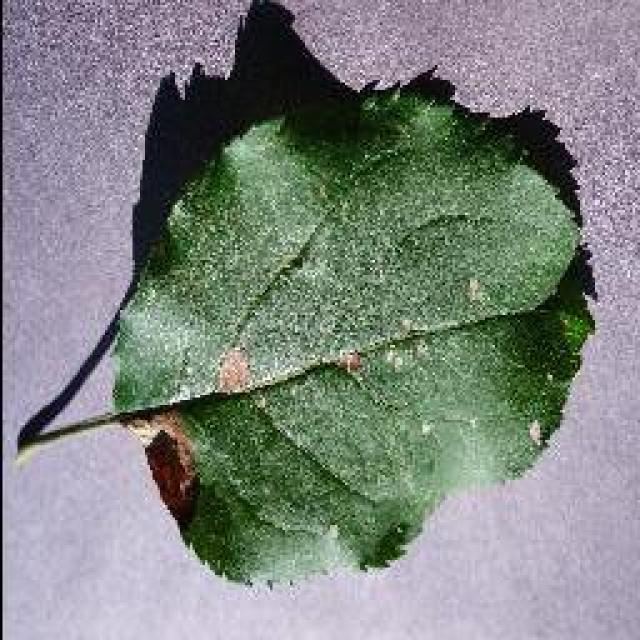Black_rot: (15, 0, 597, 588)
